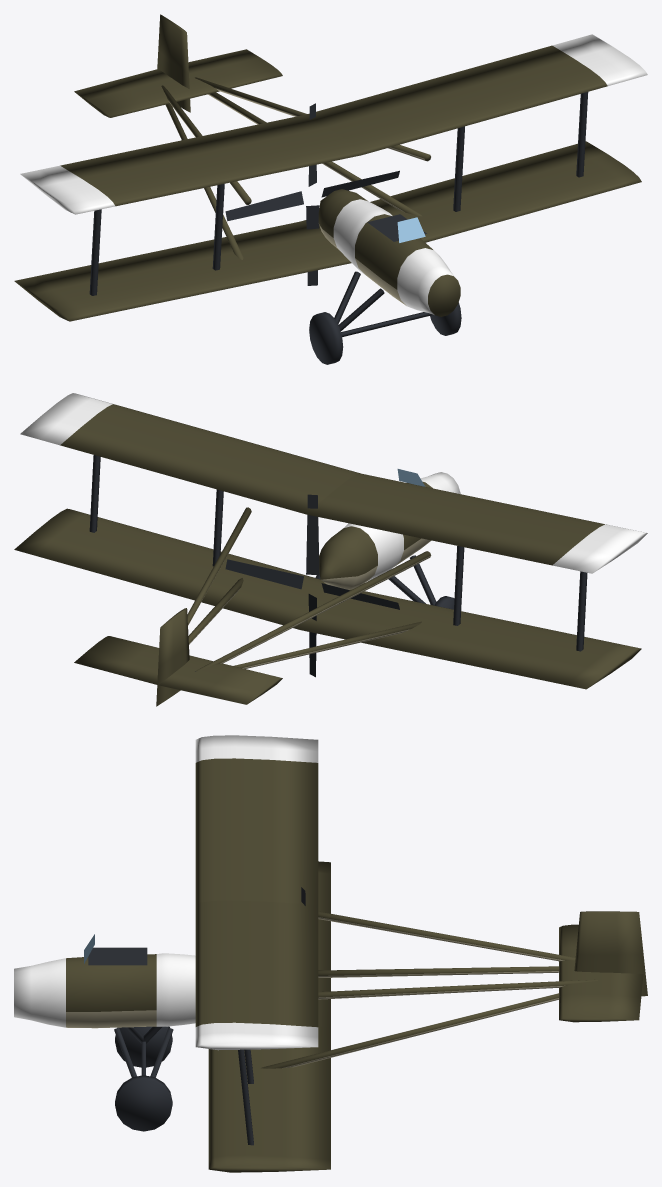
File: airco_dh2.glb
The picture shows the model from 3 angles, top to bottom: view 1: azimuth 30°, elevation 25°; view 2: azimuth 150°, elevation 25°; view 3: azimuth 270°, elevation 25°; orthographic projection. The views are drawn at different scales.
Visible parts, largest first — view 1: body, prop; view 2: body, prop; view 3: body.
Boxes of the visible parts, x1=… form: body: x1=14, y1=14, x2=647, y2=364; prop: x1=225, y1=103, x2=399, y2=285; body: x1=14, y1=393, x2=647, y2=706; prop: x1=225, y1=494, x2=399, y2=677; body: x1=14, y1=735, x2=647, y2=1172.
Size of the model in its own units: 8.61 by 2.73 by 7.51.
